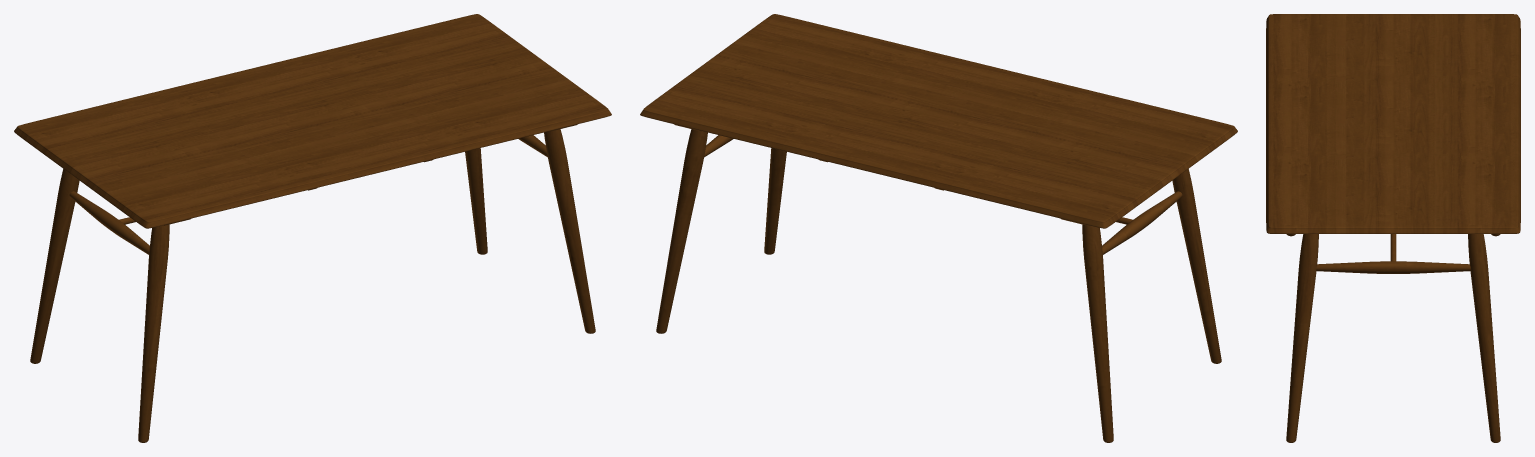
Rendered from table.fbx.
3 views of the same model, side by side, from view 1: azimuth 30°, elevation 25°; view 2: azimuth 150°, elevation 25°; view 3: azimuth 270°, elevation 25° (orthographic). The views are drawn at different scales.
Visible parts, largest first — view 1: table_49; view 2: table_49; view 3: table_49.
Part boxes in pixels (x1=…): table_49: x1=14, y1=14, x2=611, y2=442; table_49: x1=640, y1=14, x2=1237, y2=442; table_49: x1=1266, y1=14, x2=1520, y2=442.
Size of the model in its own units: 160 by 74.96 by 79.5.
1 material, 1 textured.
